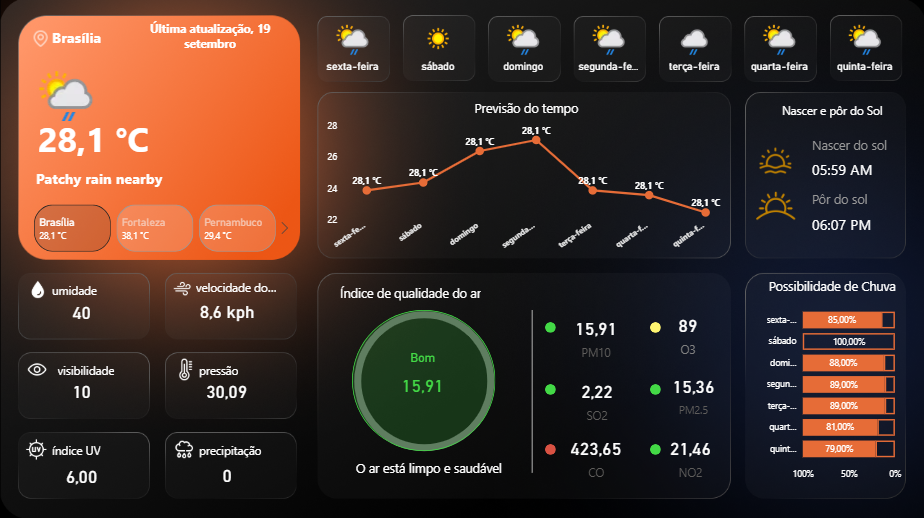

This screenshot's page, from the dashboard's own definition file:
{"tool":"powerbi","page":{"name":"Página 1","canvas":[1280,720],"ordinal":0},"visuals":[{"type":"advancedSlicerVisual","fields":{"Values":["Locations.location.name"]},"box":[21.8,278.9,386.4,75.6],"z":0},{"type":"shape","box":[52.1,154.5,223.4,73.9],"z":1000},{"type":"shape","box":[50.4,228.4,344.4,37],"z":2000},{"type":"shape","box":[72.2,26.9,159.6,50.4],"z":3000},{"type":"shape","box":[173,26.9,235.2,50.4],"z":4000},{"type":"image","box":[21.8,38.6,68.9,31.9],"z":5000},{"type":"cardVisual","fields":{"Data":["Min(Atual.current.condition.icon)"]},"box":[20.2,70.5,132.7,112.5],"z":6000},{"type":"image","box":[31.9,384.7,40.3,35.3],"z":7000},{"type":"image","box":[231.8,383,38.6,35.3],"z":8000},{"type":"image","box":[26.9,492.2,50.4,40.3],"z":9000},{"type":"image","box":[233.5,492.2,45.4,40.3],"z":10000},{"type":"image","box":[26.9,603,47,40.3],"z":11000},{"type":"image","box":[233.5,603,42,40.3],"z":12000},{"type":"shape","box":[72.2,381.3,137.7,40.3],"z":13000},{"type":"shape","box":[270.4,377.9,137.7,40.3],"z":14000},{"type":"shape","box":[50.4,492.2,137.7,40.3],"z":15000},{"type":"shape","box":[275.5,492.2,137.7,40.3],"z":16000},{"type":"shape","box":[72.2,603,137.7,40.3],"z":17000},{"type":"shape","box":[275.5,603,137.7,40.3],"z":18000},{"type":"cardVisual","fields":{"Data":["Median(Atual.current.humidity)"]},"box":[31.9,364.5,162.9,129.3],"z":19000},{"type":"cardVisual","fields":{"Data":["_medidas.wind_Speed"]},"box":[233.5,362.8,161.3,129.3],"z":20000},{"type":"cardVisual","fields":{"Data":["Median(Atual.current.pressure_in)"]},"box":[231.8,473.7,162.9,129.3],"z":21000},{"type":"cardVisual","fields":{"Data":["Median(Atual.current.vis_km)"]},"box":[31.9,473.7,162.9,129.3],"z":22000},{"type":"cardVisual","fields":{"Data":["Avg(Atual.current.uv)"]},"box":[31.9,591.3,162.9,129.3],"z":23000},{"type":"cardVisual","fields":{"Data":["Sum(Atual.current.precip_in)"]},"box":[233.5,589.6,161.3,129.3],"z":24000},{"type":"advancedSlicerVisual","fields":{"Values":["previsão_day.day_Name"]},"box":[426.7,21.8,829.8,97.4],"z":25000},{"type":"lineChart","title":"Previsão do tempo","fields":{"Y":["Avg(previsão_day.forecast.forecastday.day.avgtemp_c)"],"Category":["previsão_day.day_Name"]},"box":[443.5,137.7,567.8,216.7],"z":26000},{"type":"shape","box":[1058.3,137.7,183.1,31.9],"z":27000},{"type":"shape","box":[1122.1,203.2,157.9,62.1],"z":28000},{"type":"shape","box":[1122.1,278.9,157.9,62.1],"z":29000},{"type":"shape","box":[1122.1,169.7,157.9,62.1],"z":30000},{"type":"shape","box":[1122.1,245.2,157.9,62.1],"z":31000},{"type":"image","box":[1011.2,196.5,120.9,53.8],"z":32000},{"type":"image","box":[1006.2,245.2,131,82.3],"z":33000},{"type":"hundredPercentStackedBarChart","title":"Possibilidade de Chuva","fields":{"Y":["Atual.left_value_rain","Sum(previsão_day.forecast.forecastday.day.daily_chance_of_rain)"],"Category":["previsão_day.day_Name"]},"box":[1043.2,384.7,213.3,290.6],"z":34000},{"type":"shape","box":[456.9,389.7,220.1,31.9],"z":35000},{"type":"cardVisual","fields":{"Data":["Avg(Atual.current.air_quality.o3)"]},"box":[910.5,421.6,80.6,90.7],"z":36000},{"type":"cardVisual","fields":{"Data":["Avg(Atual.current.air_quality.pm2_5)"]},"box":[910.5,505.6,95.8,84],"z":37000},{"type":"cardVisual","fields":{"Data":["Avg(Atual.current.air_quality.no2)"]},"box":[907.1,591.3,95.8,84],"z":38000},{"type":"cardVisual","fields":{"Data":["Avg(Atual.current.air_quality.pm10)"]},"box":[772.7,425,102.5,82.3],"z":39000},{"type":"cardVisual","fields":{"Data":["Avg(Atual.current.air_quality.co)"]},"box":[740.8,591.3,166.3,80.6],"z":40000},{"type":"cardVisual","fields":{"Data":["Avg(Atual.current.air_quality.so2)"]},"box":[772.7,512.3,105.8,87.3],"z":41000},{"type":"shape","box":[752.5,446.8,15,15],"z":42000},{"type":"shape","box":[752.5,532.5,15.1,15.1],"z":43000},{"type":"shape","box":[752.5,614.8,15.1,15.1],"z":44000},{"type":"shape","box":[898.7,446.8,15.1,15.1],"z":45000},{"type":"shape","box":[898.7,532.5,15.1,15.1],"z":46000},{"type":"shape","box":[898.7,614.8,15.1,15.1],"z":47000},{"type":"shape","box":[729,430,11.8,225.1],"z":48000},{"type":"cardVisual","fields":{"Data":["Avg(Atual.current.air_quality.pm10)"]},"box":[527.5,485.5,112.5,82.3],"z":49000},{"type":"donutChart","fields":{"Y":["_medidas.left_value_PM10","Sum(Atual.current.air_quality.pm10)"]},"box":[443.5,401.5,285.6,252],"z":50000},{"type":"shape","box":[487.1,430,198.2,194.9],"z":51000},{"type":"shape","box":[456.9,624.9,270.4,47],"z":52000}]}

Visuals, with their boxes in screenshot pixels (x1, y1, x2, y2), scaled from the page's 1280x720 canvas onto the 924x518 screenshot:
advancedSlicerVisual - Locations.location.name: (16, 201, 295, 255)
shape: (38, 111, 199, 164)
shape: (36, 164, 285, 191)
shape: (52, 19, 167, 56)
shape: (125, 19, 295, 56)
image: (16, 28, 65, 51)
cardVisual - Min(Atual.current.condition.icon): (15, 51, 110, 132)
image: (23, 277, 52, 302)
image: (167, 276, 195, 301)
image: (19, 354, 56, 383)
image: (169, 354, 201, 383)
image: (19, 434, 53, 463)
image: (169, 434, 199, 463)
shape: (52, 274, 152, 303)
shape: (195, 272, 295, 301)
shape: (36, 354, 136, 383)
shape: (199, 354, 298, 383)
shape: (52, 434, 152, 463)
shape: (199, 434, 298, 463)
cardVisual - Median(Atual.current.humidity): (23, 262, 141, 355)
cardVisual - _medidas.wind_Speed: (169, 261, 285, 354)
cardVisual - Median(Atual.current.pressure_in): (167, 341, 285, 434)
cardVisual - Median(Atual.current.vis_km): (23, 341, 141, 434)
cardVisual - Avg(Atual.current.uv): (23, 425, 141, 517)
cardVisual - Sum(Atual.current.precip_in): (169, 424, 285, 517)
advancedSlicerVisual - previsão_day.day_Name: (308, 16, 907, 86)
"Previsão do tempo" lineChart: (320, 99, 730, 255)
shape: (764, 99, 896, 122)
shape: (810, 146, 923, 191)
shape: (810, 201, 923, 245)
shape: (810, 122, 923, 167)
shape: (810, 176, 923, 221)
image: (730, 141, 817, 180)
image: (726, 176, 821, 236)
"Possibilidade de Chuva" hundredPercentStackedBarChart: (753, 277, 907, 486)
shape: (330, 280, 489, 303)
cardVisual - Avg(Atual.current.air_quality.o3): (657, 303, 715, 369)
cardVisual - Avg(Atual.current.air_quality.pm2_5): (657, 364, 726, 424)
cardVisual - Avg(Atual.current.air_quality.no2): (655, 425, 724, 486)
cardVisual - Avg(Atual.current.air_quality.pm10): (558, 306, 632, 365)
cardVisual - Avg(Atual.current.air_quality.co): (535, 425, 655, 483)
cardVisual - Avg(Atual.current.air_quality.so2): (558, 369, 634, 431)
shape: (543, 321, 554, 332)
shape: (543, 383, 554, 394)
shape: (543, 442, 554, 453)
shape: (649, 321, 660, 332)
shape: (649, 383, 660, 394)
shape: (649, 442, 660, 453)
shape: (526, 309, 535, 471)
cardVisual - Avg(Atual.current.air_quality.pm10): (381, 349, 462, 409)
donutChart - _medidas.left_value_PM10 x Sum(Atual.current.air_quality.pm10): (320, 289, 526, 470)
shape: (352, 309, 495, 450)
shape: (330, 450, 525, 483)
